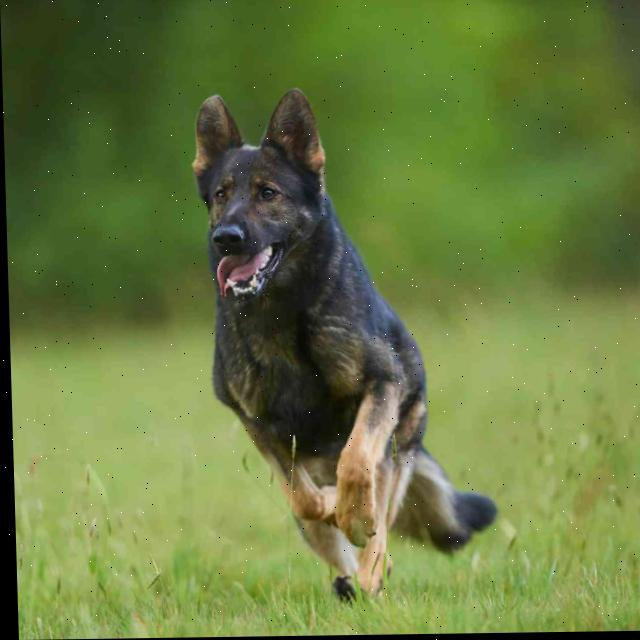GERMAN_SHEPHERD: (145, 72, 532, 628)
